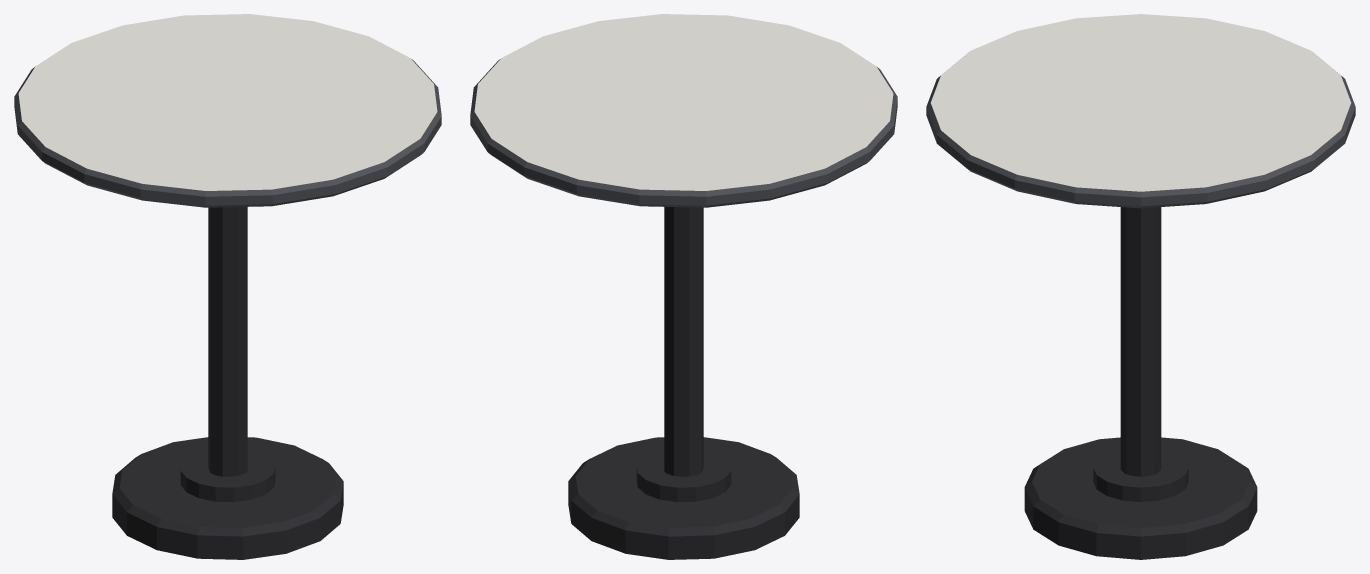
File: FN_Table_Cafe_Round.obj
The picture shows the model from 3 angles, left to right: view 1: azimuth 30°, elevation 25°; view 2: azimuth 150°, elevation 25°; view 3: azimuth 270°, elevation 25°; orthographic projection.
Visible parts, largest first — view 1: FN_Table_Cafe_Round; view 2: FN_Table_Cafe_Round; view 3: FN_Table_Cafe_Round.
Boxes of the visible parts, x1=… form: FN_Table_Cafe_Round: x1=14, y1=14, x2=441, y2=559; FN_Table_Cafe_Round: x1=470, y1=14, x2=897, y2=559; FN_Table_Cafe_Round: x1=926, y1=14, x2=1355, y2=559.
Size of the model in its own units: 0.7 by 0.74 by 0.7.
Materials: 1 (1 with a texture image).
